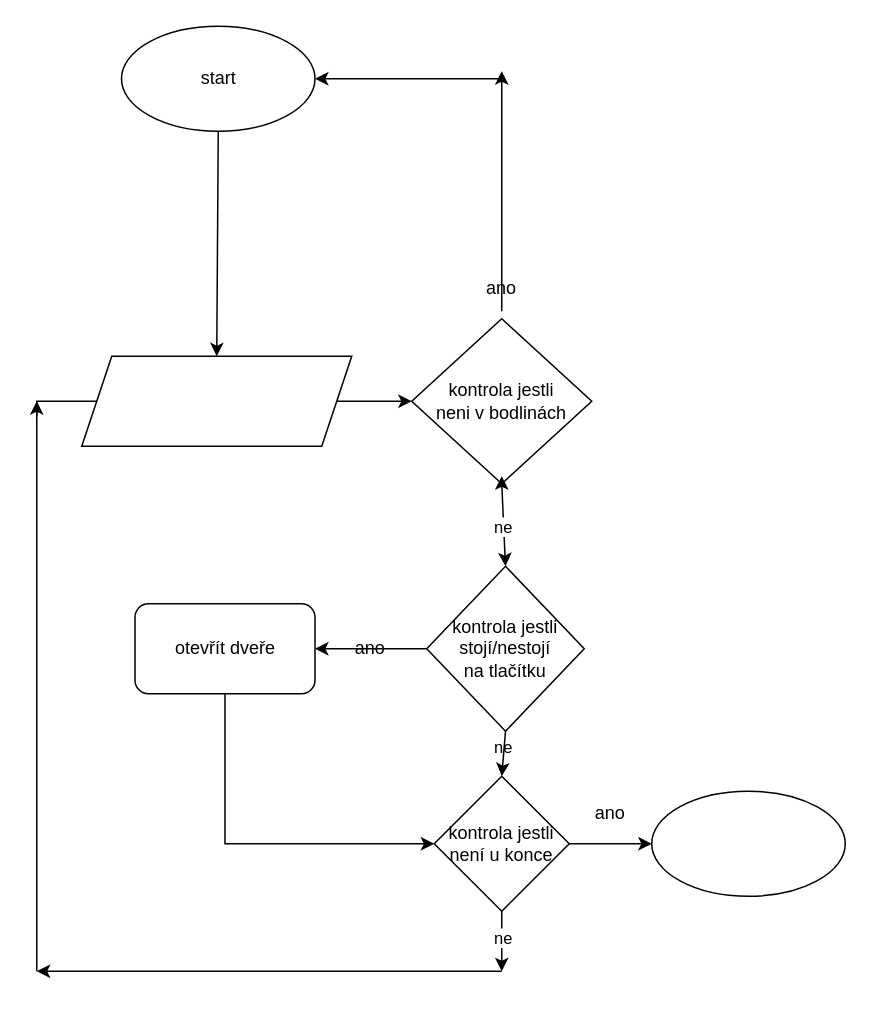
Some shapes in this 872 by 1010 pixel diagram are drawn without their labels. Each missing label, with the centre of its shape:
konec: pixel 747 843
pohyb pomocí klásev w,a,s,d: pixel 216 400
